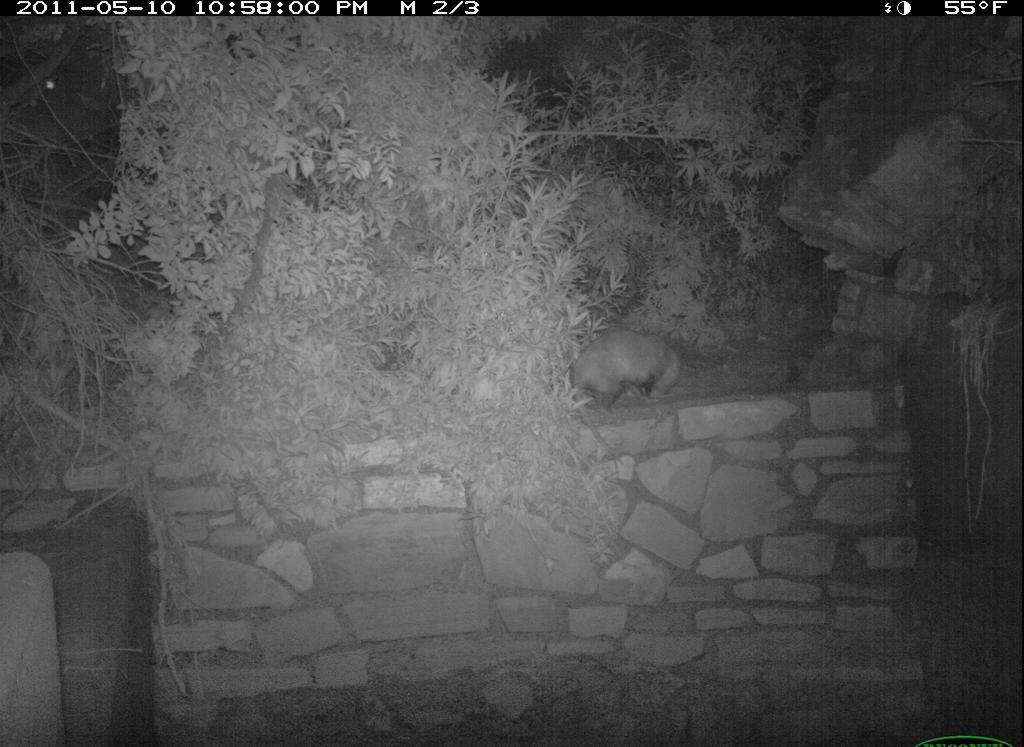opossum: (565, 323, 693, 423)
